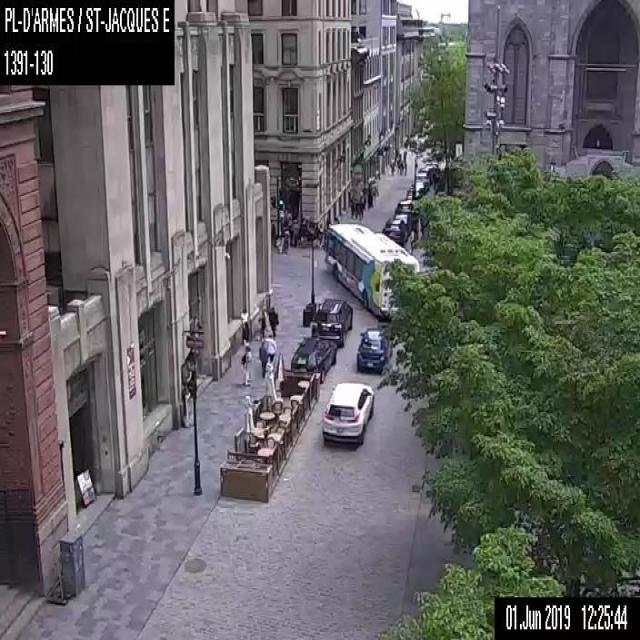bus: (324, 222, 419, 318)
pedestrian: (259, 336, 275, 378), (240, 347, 252, 384), (239, 308, 249, 347), (268, 306, 278, 338), (258, 308, 266, 338), (290, 218, 298, 246), (282, 226, 290, 252), (316, 223, 324, 245)
vehicle: (321, 380, 374, 446), (289, 335, 337, 382), (311, 298, 352, 346), (354, 324, 394, 373), (381, 218, 408, 246), (394, 200, 416, 223), (394, 213, 411, 233)
